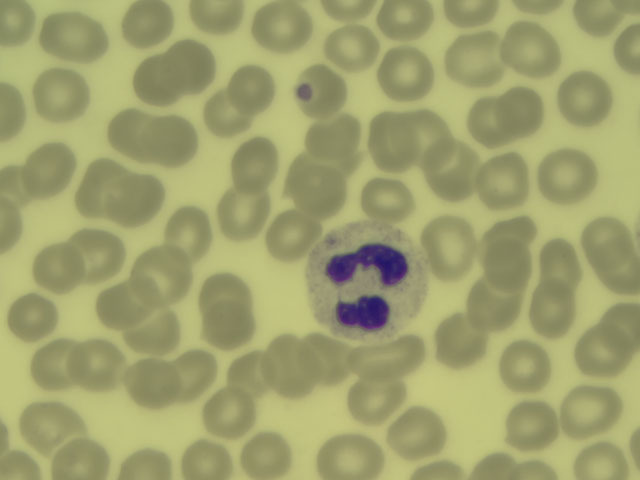Platelets: (290, 78, 317, 103)
RBC: (38, 11, 115, 64), (103, 114, 190, 159), (35, 69, 97, 125), (288, 152, 343, 215), (423, 218, 477, 280), (538, 148, 597, 202), (386, 407, 447, 459), (130, 247, 187, 302), (505, 23, 559, 80), (317, 434, 383, 480), (71, 228, 126, 282), (403, 109, 457, 164), (254, 1, 312, 51), (354, 337, 424, 378), (264, 337, 310, 399), (113, 172, 162, 229), (379, 48, 436, 97), (481, 153, 530, 210), (72, 341, 130, 389), (347, 380, 413, 421), (165, 206, 215, 260), (19, 405, 83, 447), (574, 326, 630, 374), (171, 40, 219, 94), (27, 337, 74, 392), (430, 143, 478, 196), (304, 116, 365, 157), (433, 314, 483, 364), (305, 331, 352, 384), (563, 72, 609, 126), (563, 391, 626, 430), (124, 310, 181, 353), (30, 243, 83, 289), (46, 442, 110, 480), (124, 1, 179, 45), (126, 361, 175, 410), (221, 186, 268, 237), (448, 34, 500, 80), (500, 345, 553, 390), (131, 52, 175, 106), (502, 405, 557, 448), (471, 285, 524, 329), (232, 137, 280, 185), (367, 110, 406, 169), (470, 96, 513, 148), (270, 212, 320, 256), (326, 29, 381, 69), (205, 90, 251, 137), (173, 353, 221, 397), (481, 251, 538, 288), (541, 240, 584, 289), (27, 150, 73, 195), (79, 161, 118, 214), (119, 445, 178, 480), (363, 180, 413, 221), (184, 440, 234, 480), (242, 435, 289, 477), (95, 284, 143, 325), (8, 298, 57, 338), (384, 1, 435, 39), (196, 277, 253, 310), (191, 1, 246, 34), (578, 443, 624, 480), (1, 1, 37, 48), (228, 351, 269, 392), (208, 394, 252, 432), (589, 218, 626, 263), (227, 70, 273, 106), (206, 311, 252, 346), (484, 216, 543, 243), (607, 251, 640, 299), (1, 79, 24, 147), (613, 24, 640, 80), (573, 1, 620, 32), (504, 90, 541, 129), (530, 299, 574, 331), (2, 443, 40, 480), (602, 308, 640, 345), (442, 1, 500, 24), (1, 199, 22, 255), (324, 1, 378, 21), (409, 461, 465, 480), (1, 168, 31, 202), (478, 453, 511, 480), (518, 459, 558, 480)
WBC: (309, 226, 430, 334)
